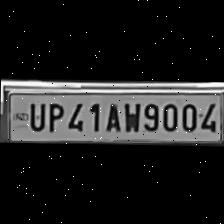0: (158, 99, 178, 130), (178, 100, 196, 131)
1: (84, 100, 103, 132)
4: (64, 99, 86, 132), (197, 99, 217, 132)
9: (140, 100, 158, 132)
A: (102, 98, 122, 132)
P: (42, 98, 64, 132)
U: (24, 100, 46, 132)
W: (120, 99, 140, 132)
